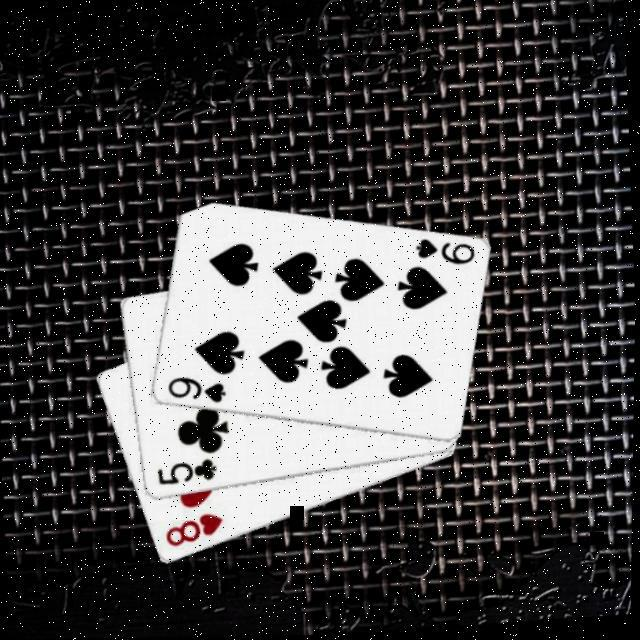5C: (156, 456, 222, 488)
8H: (163, 509, 230, 550)
9S: (414, 234, 479, 272), (166, 371, 232, 408)
